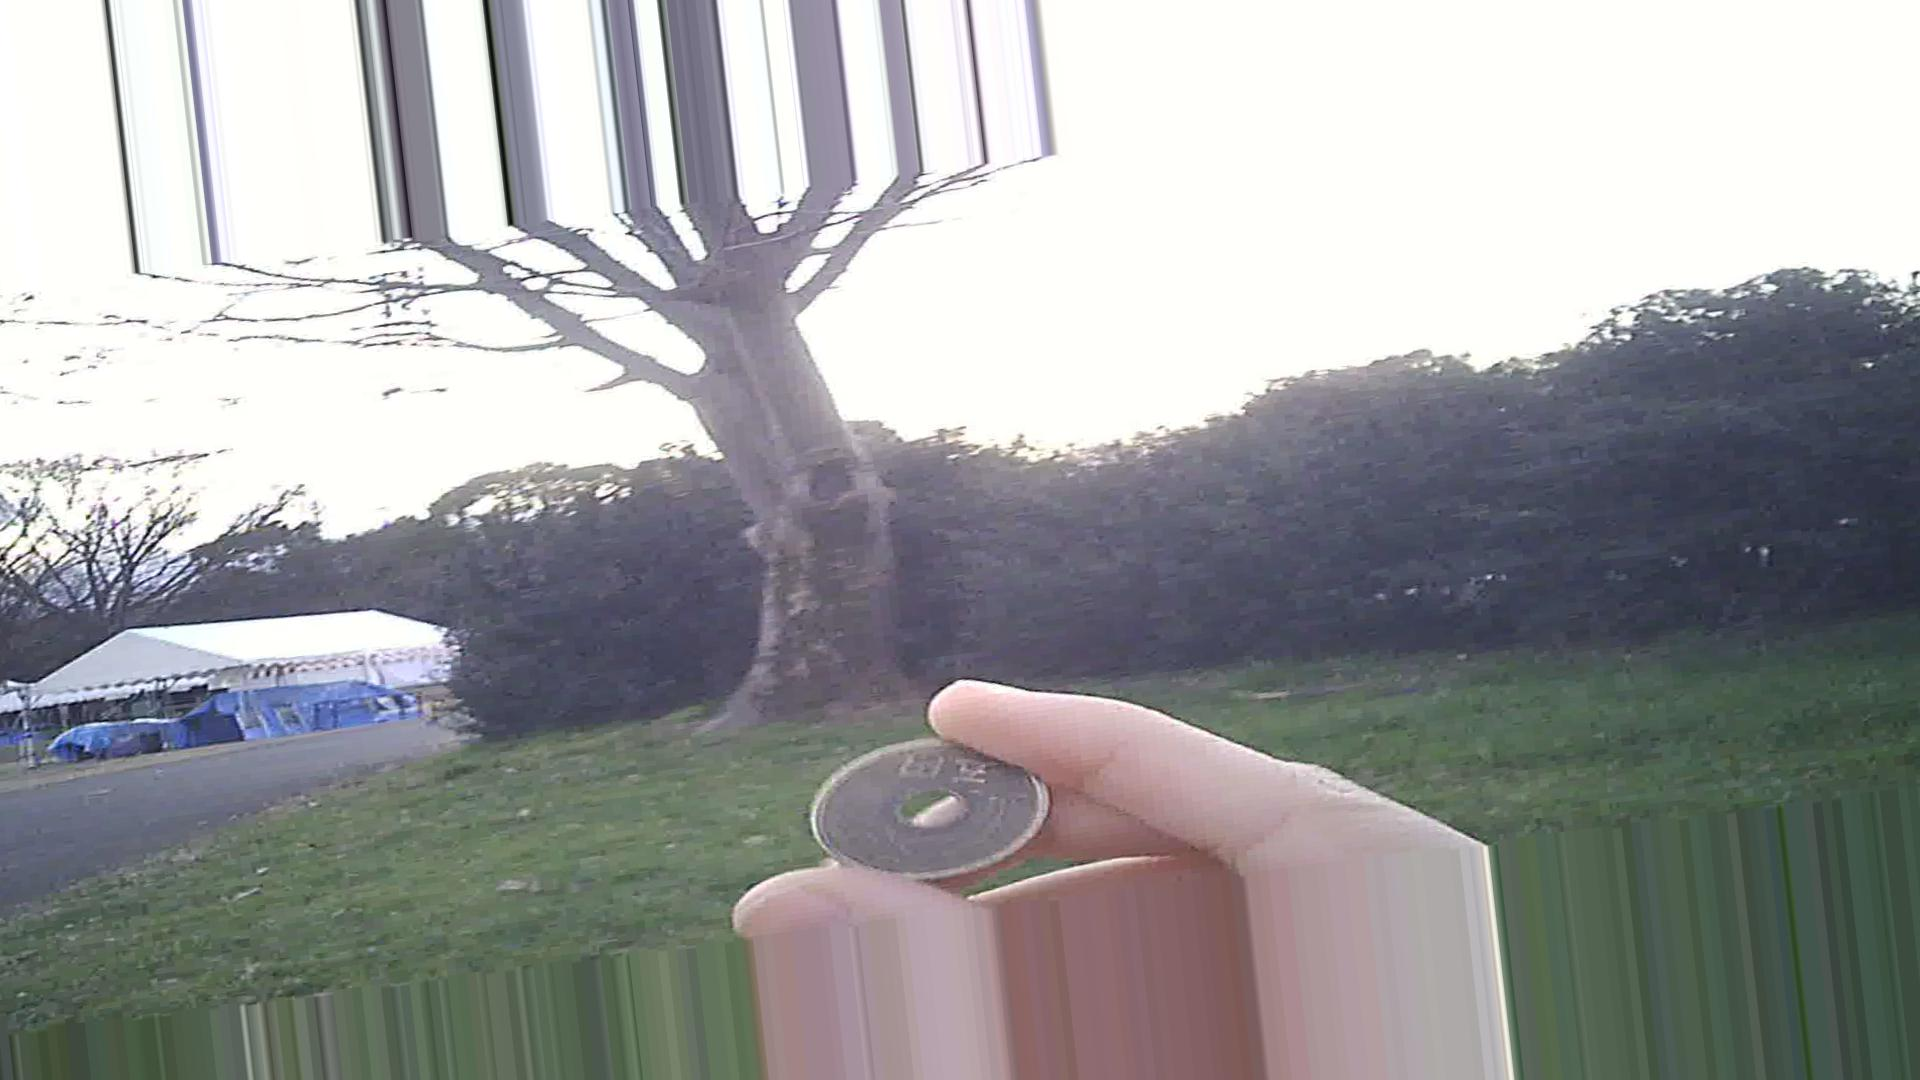5 Yen: (800, 738, 1058, 866)
